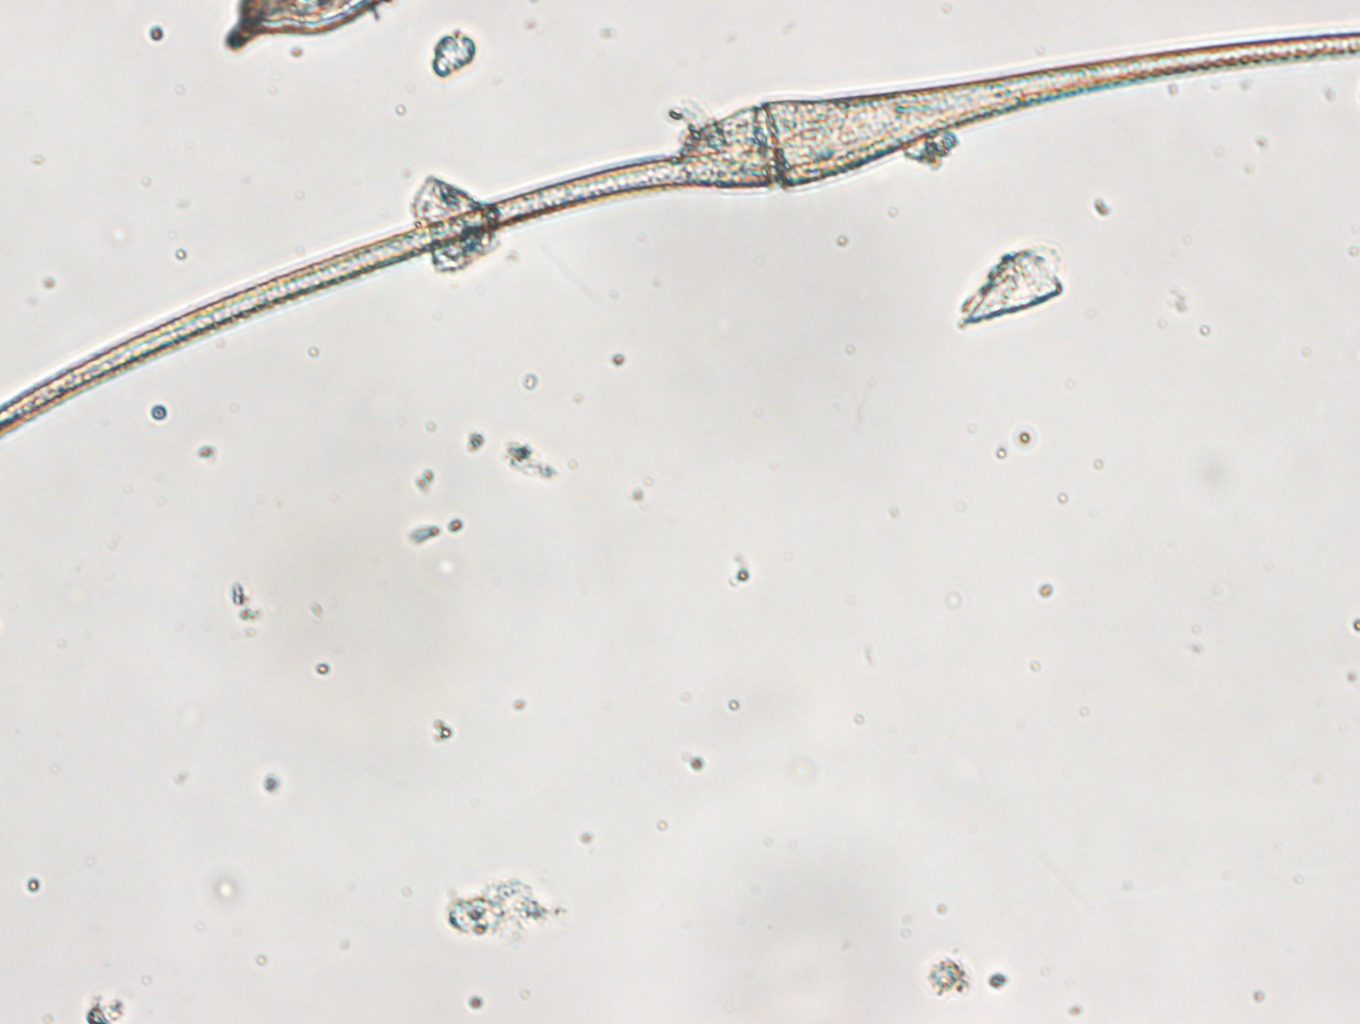ceratium fusus: (1, 28, 1360, 444)
